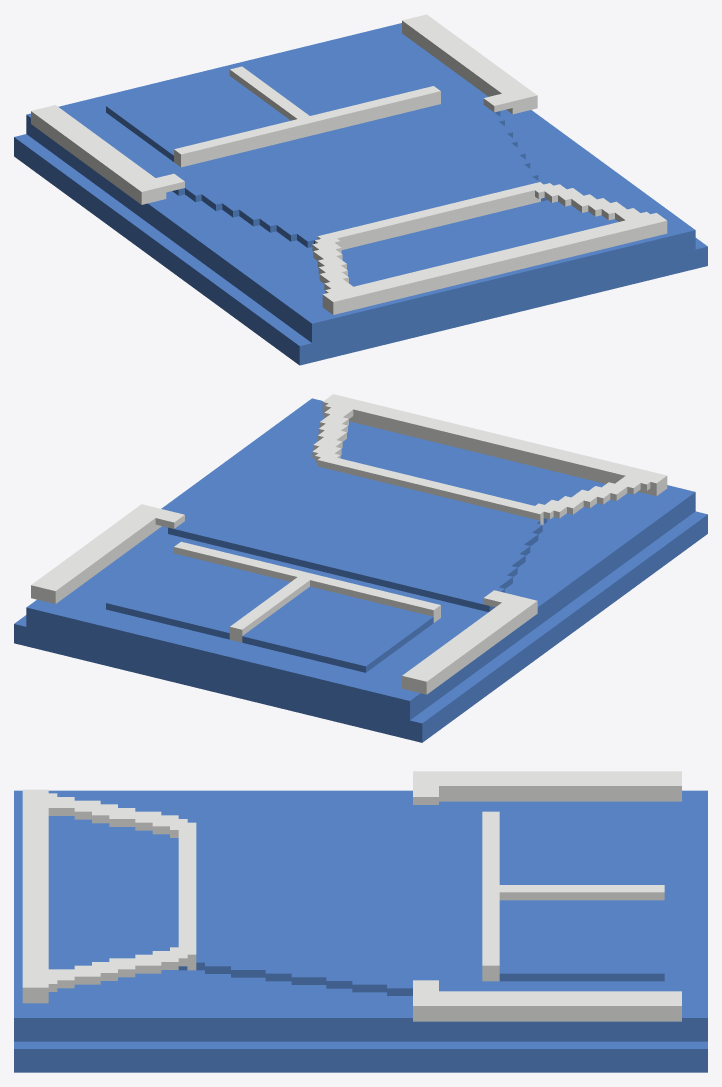
File: apron_plastic.glb
3 views of the same model, one above another, from view 1: azimuth 30°, elevation 25°; view 2: azimuth 150°, elevation 25°; view 3: azimuth 270°, elevation 25° (orthographic). The views are drawn at different scales.
Visible parts, largest first — view 1: apron_plastic:compound; view 2: apron_plastic:compound; view 3: apron_plastic:compound.
Part boxes in pixels (box(x1,y1,x2,y2)): apron_plastic:compound: box(14, 14, 707, 365); apron_plastic:compound: box(14, 394, 707, 742); apron_plastic:compound: box(14, 771, 707, 1072).
Size of the model in its own units: 0.264 by 0.032 by 0.32.
